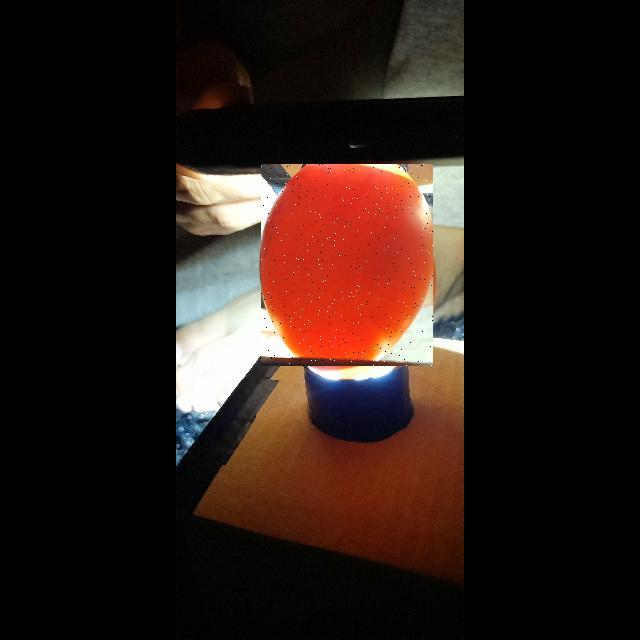Fertile: (261, 164, 433, 366)
